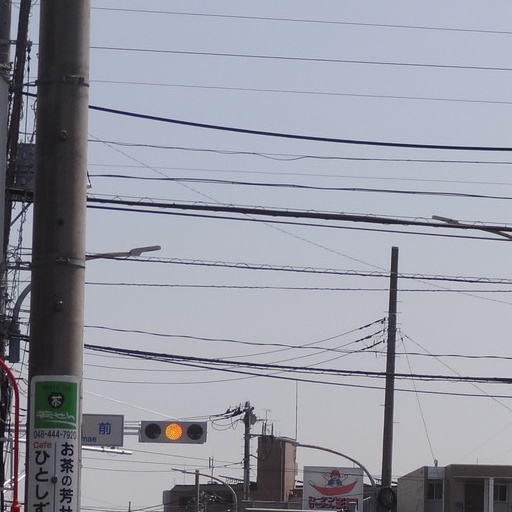Traffic_Signal_Yellow: (136, 415, 214, 449)
